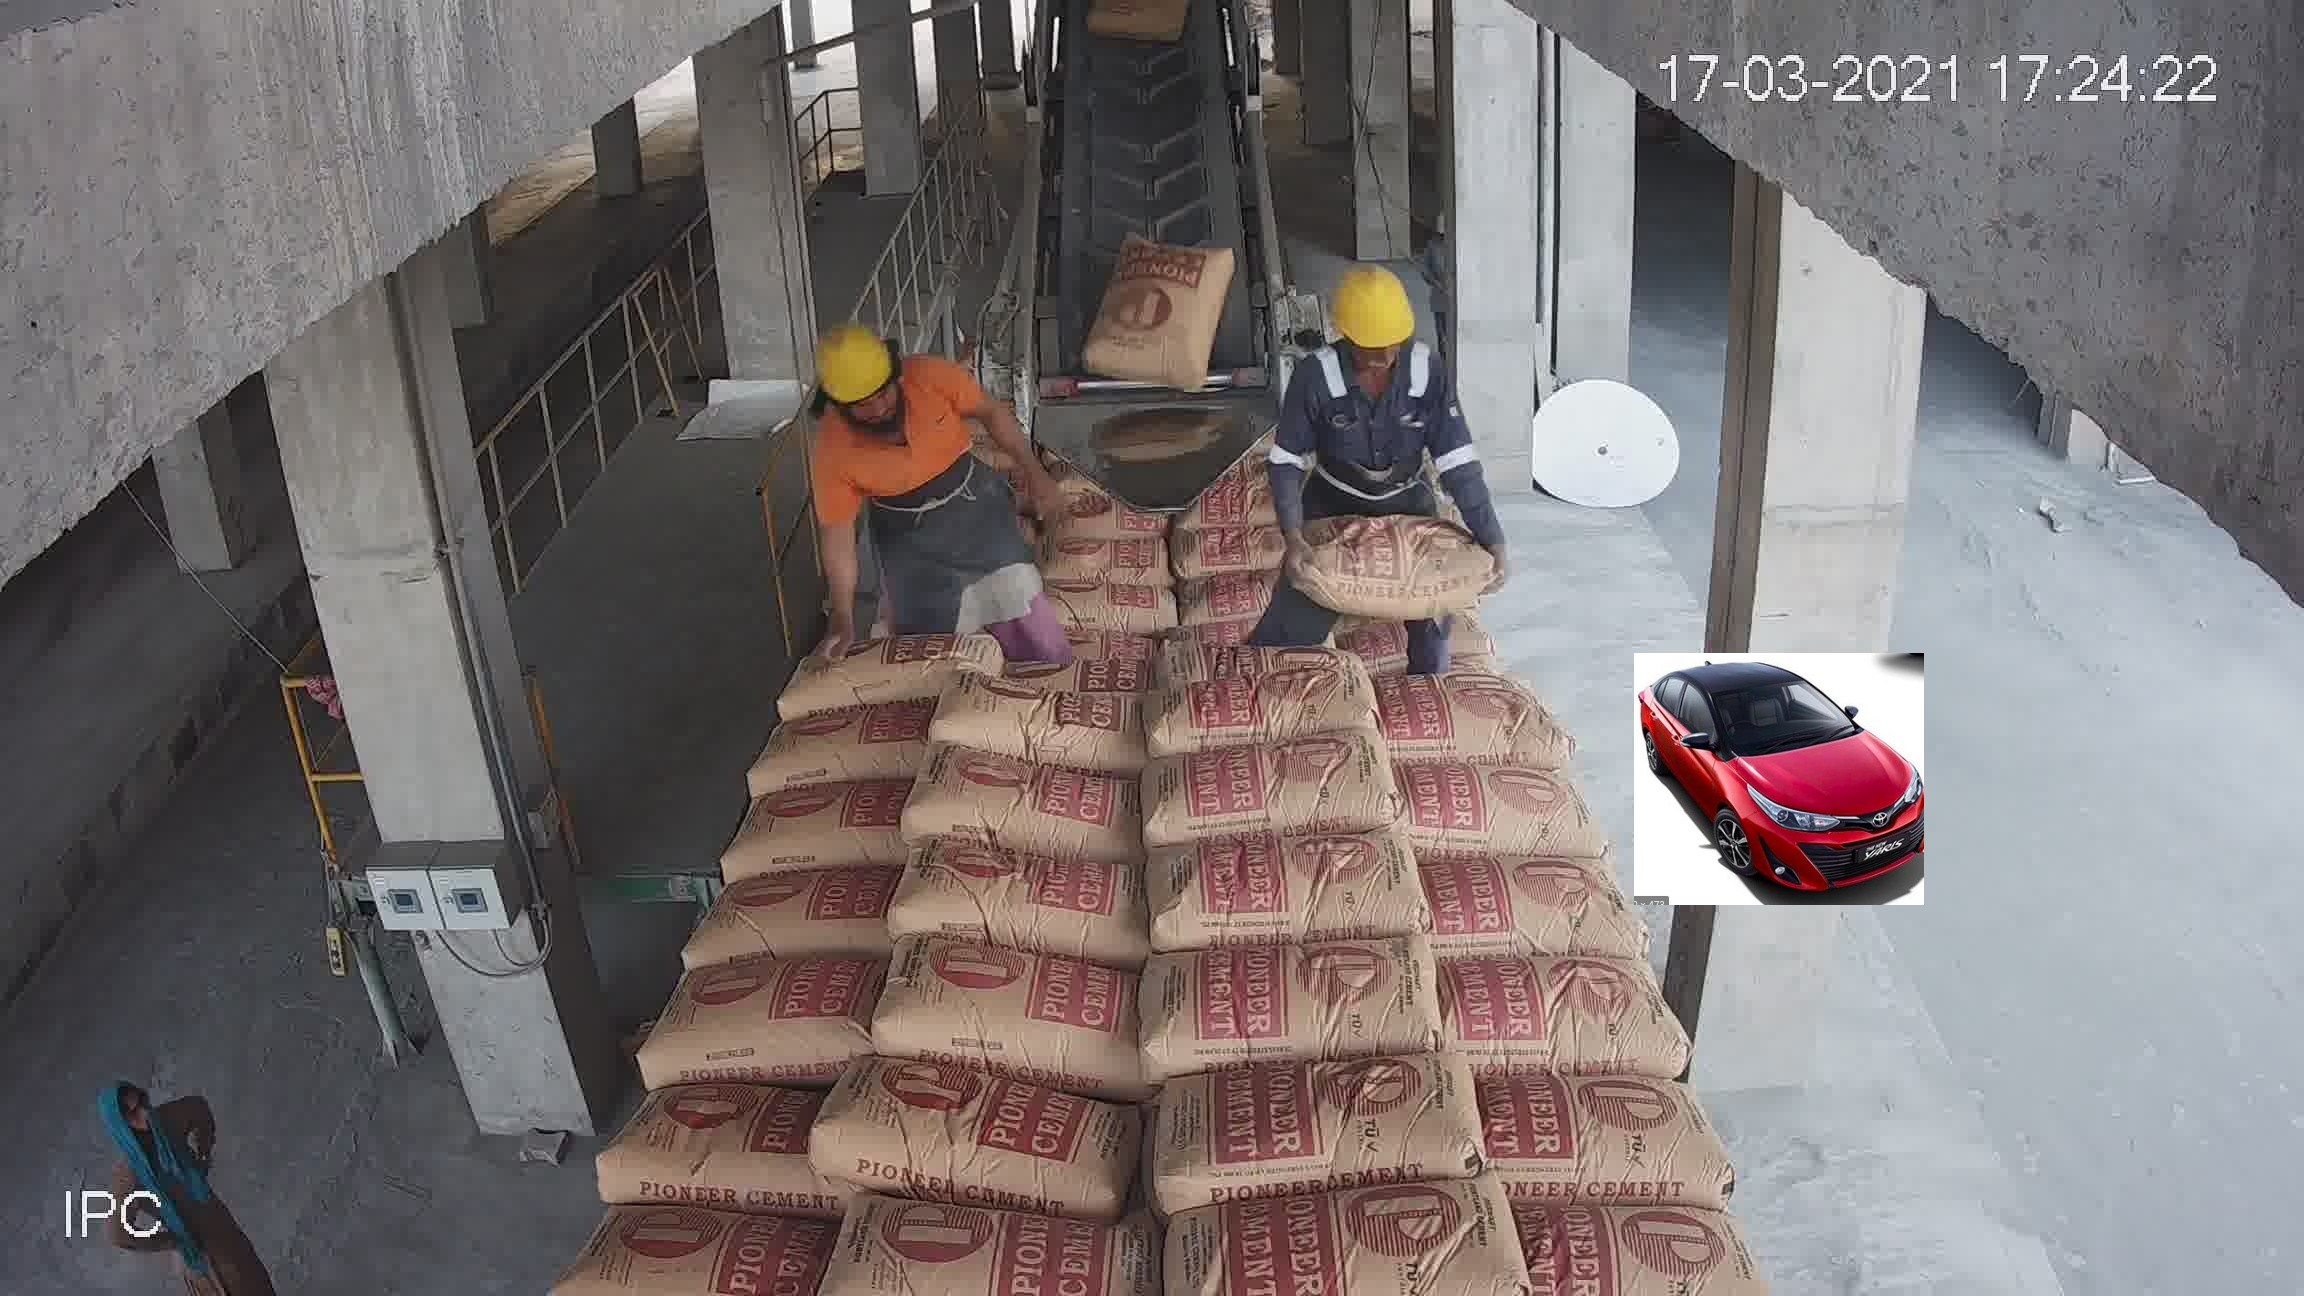bag: (1116, 212, 1207, 310)
bag_h: (1097, 1052, 1487, 1195), (813, 1063, 1195, 1206), (1155, 1161, 1533, 1296), (1169, 796, 1483, 937), (805, 1188, 1179, 1296), (1131, 940, 1448, 1062), (1133, 722, 1407, 845), (601, 1071, 832, 1211), (913, 839, 1193, 953), (896, 961, 1149, 1081), (878, 734, 1166, 839), (1494, 1060, 1693, 1206), (597, 1199, 870, 1296), (1168, 581, 1399, 684), (1135, 665, 1378, 758), (673, 965, 866, 1081), (665, 875, 899, 970), (717, 761, 919, 870), (1468, 957, 1679, 1062), (923, 665, 1150, 748), (744, 699, 956, 786), (1435, 848, 1616, 949), (949, 595, 1165, 679), (1413, 760, 1608, 850), (1154, 529, 1389, 601), (1362, 682, 1575, 763), (1342, 612, 1537, 695), (764, 635, 948, 715), (1543, 1220, 1734, 1296), (945, 492, 1147, 562), (783, 597, 965, 665), (937, 560, 1166, 614), (1339, 559, 1500, 635), (1136, 486, 1340, 544), (804, 541, 965, 604), (1339, 516, 1503, 574), (1321, 459, 1473, 521), (855, 483, 992, 546), (978, 470, 1149, 517), (1195, 441, 1332, 494), (1305, 408, 1424, 464), (1315, 377, 1408, 438), (934, 418, 1022, 483), (1324, 347, 1416, 397), (945, 392, 1032, 438)
belt: (1052, 9, 1261, 279)
